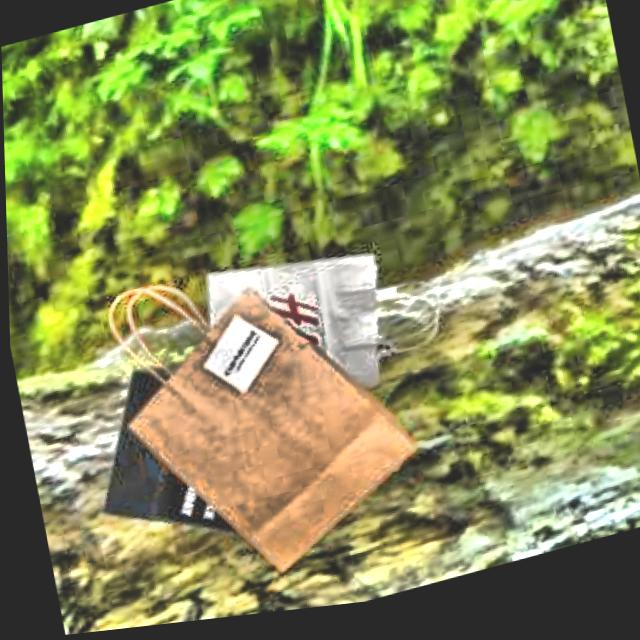Paper-bag: (70, 212, 432, 614), (62, 325, 333, 592), (144, 226, 406, 454)
